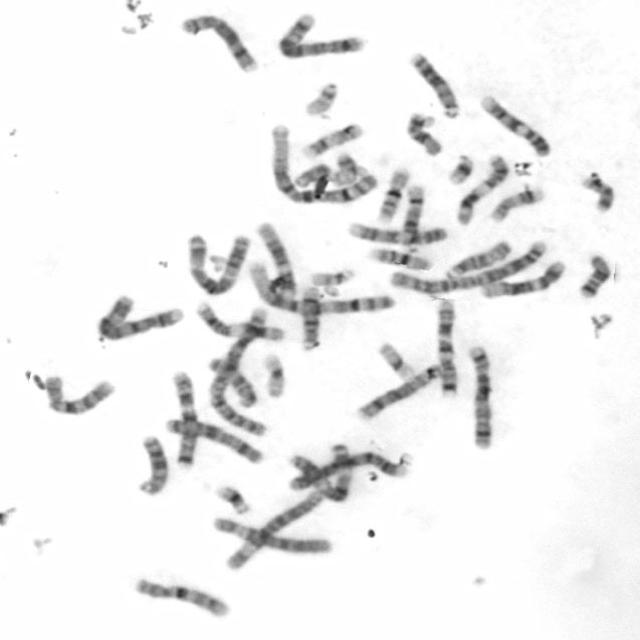A1: (264, 121, 380, 208), (244, 258, 398, 316)
A2: (382, 236, 550, 296), (205, 303, 271, 440)
A3: (181, 228, 251, 296), (292, 439, 353, 505)
B4: (283, 446, 412, 492), (91, 290, 187, 342)
B5: (272, 10, 368, 59), (463, 341, 496, 451)
C10: (129, 573, 234, 621), (39, 368, 118, 418)
C11: (450, 151, 512, 227), (191, 298, 288, 342)
C12: (475, 256, 569, 300), (252, 218, 298, 300)
C6: (218, 484, 329, 573), (208, 512, 335, 556)
C7: (167, 368, 199, 468), (431, 294, 460, 398)
C8: (176, 10, 262, 75), (352, 362, 444, 422)
C9: (477, 91, 552, 158), (343, 218, 450, 247)
D13: (406, 46, 461, 120), (134, 431, 170, 497)
D14: (298, 285, 326, 351), (399, 181, 425, 249)
D15: (441, 237, 513, 280), (205, 354, 259, 408)
E16: (373, 164, 413, 225), (366, 243, 434, 273)
E17: (298, 119, 366, 160), (486, 183, 546, 224)
E18: (402, 109, 446, 158), (574, 250, 613, 299)
F19: (374, 339, 417, 380), (258, 350, 288, 400)
F20: (584, 172, 616, 214), (326, 149, 359, 187)
G21: (211, 480, 253, 515), (444, 151, 476, 186)
G22: (298, 78, 340, 118), (306, 264, 358, 288)
X: (161, 414, 265, 466)
Y: (290, 160, 330, 196)
